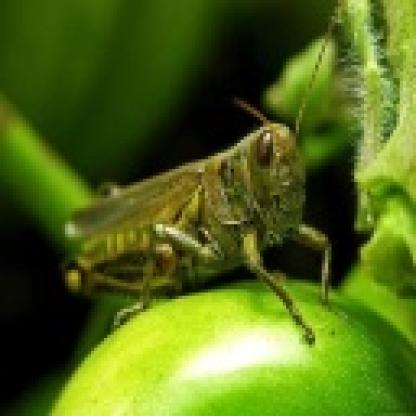grasshopper: (62, 101, 343, 336)
